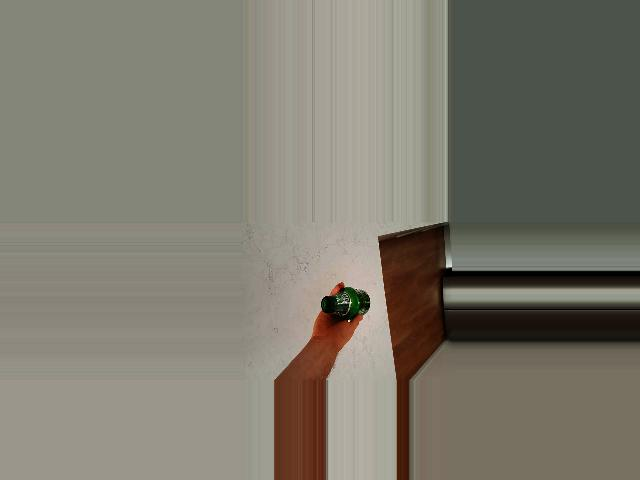beer: (320, 287, 370, 320)
